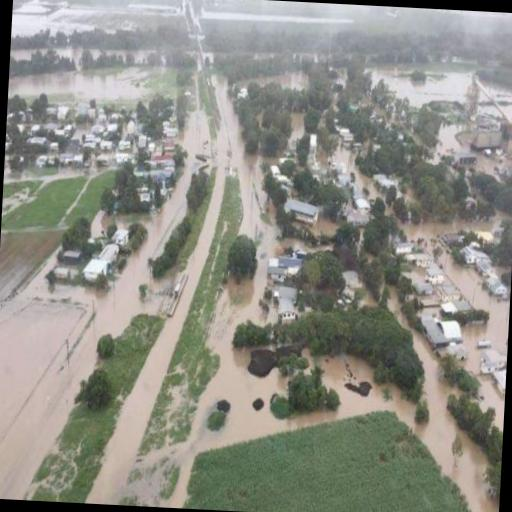flood: (85, 82, 377, 509), (0, 111, 210, 500), (324, 331, 500, 512), (401, 221, 510, 432), (8, 70, 148, 99), (372, 66, 472, 106), (332, 148, 382, 197), (479, 80, 512, 122), (436, 125, 470, 156), (11, 12, 50, 38), (265, 72, 304, 90)
house: (82, 241, 120, 286), (422, 314, 464, 352), (283, 194, 323, 232), (267, 254, 304, 282), (89, 210, 114, 242), (274, 295, 298, 322), (480, 350, 507, 374), (486, 276, 508, 298), (426, 266, 446, 286)
